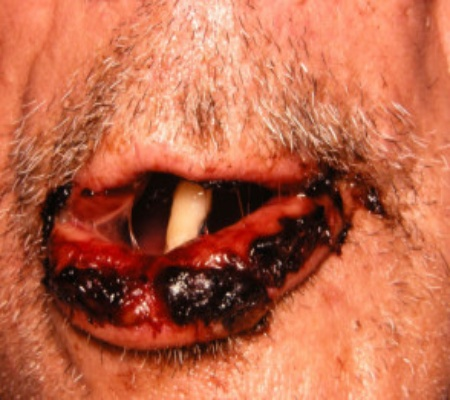SJS-TEN: (17, 146, 414, 387)
